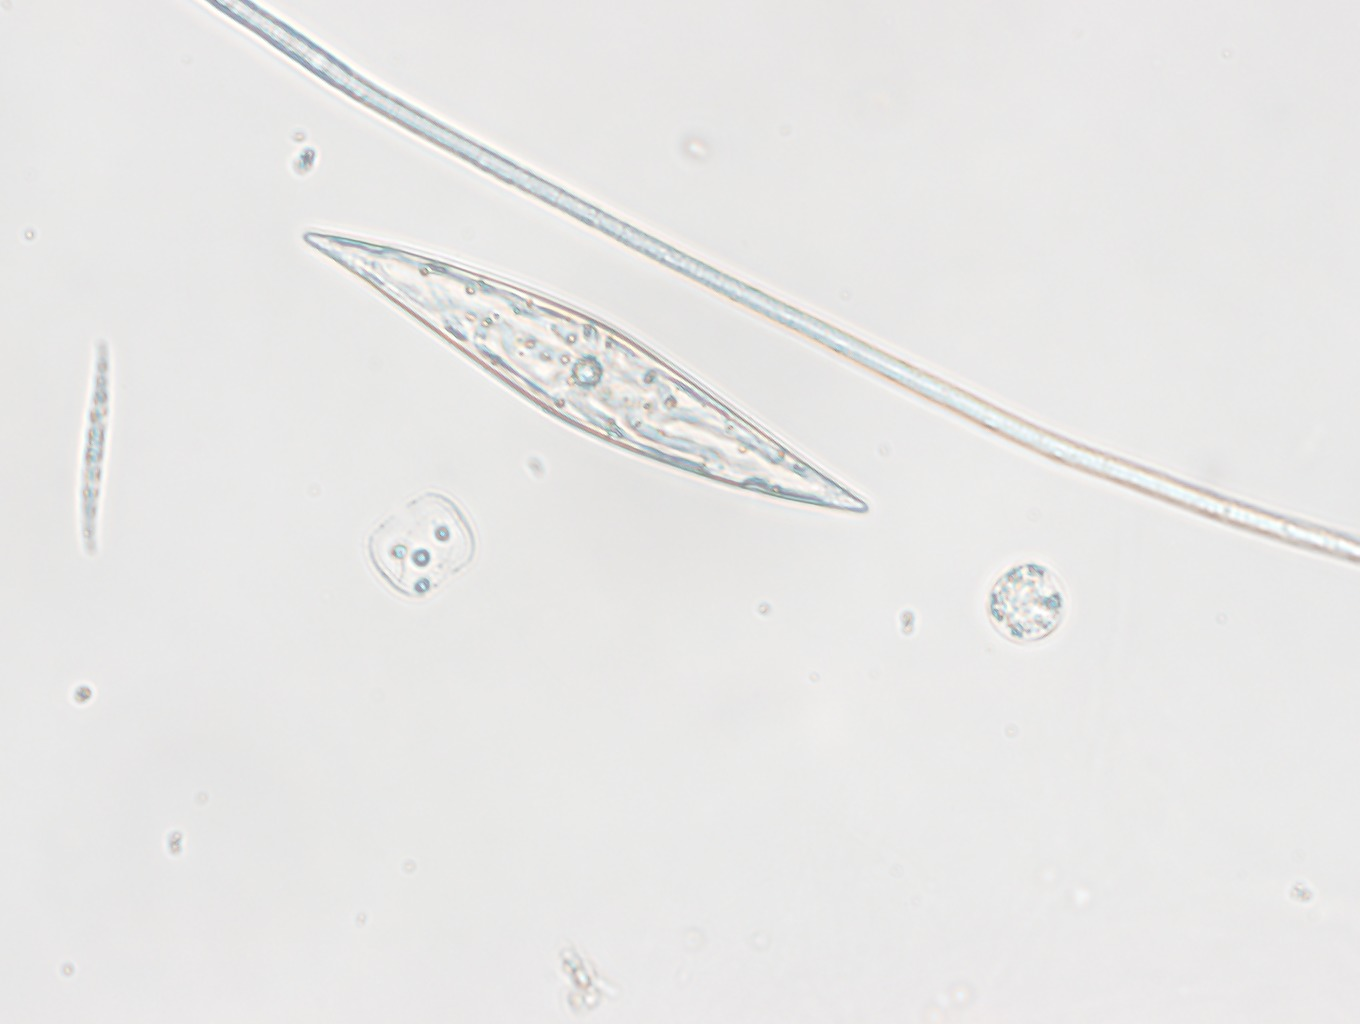pleurosigma pelagicum: (298, 227, 871, 517), (70, 333, 124, 566)
